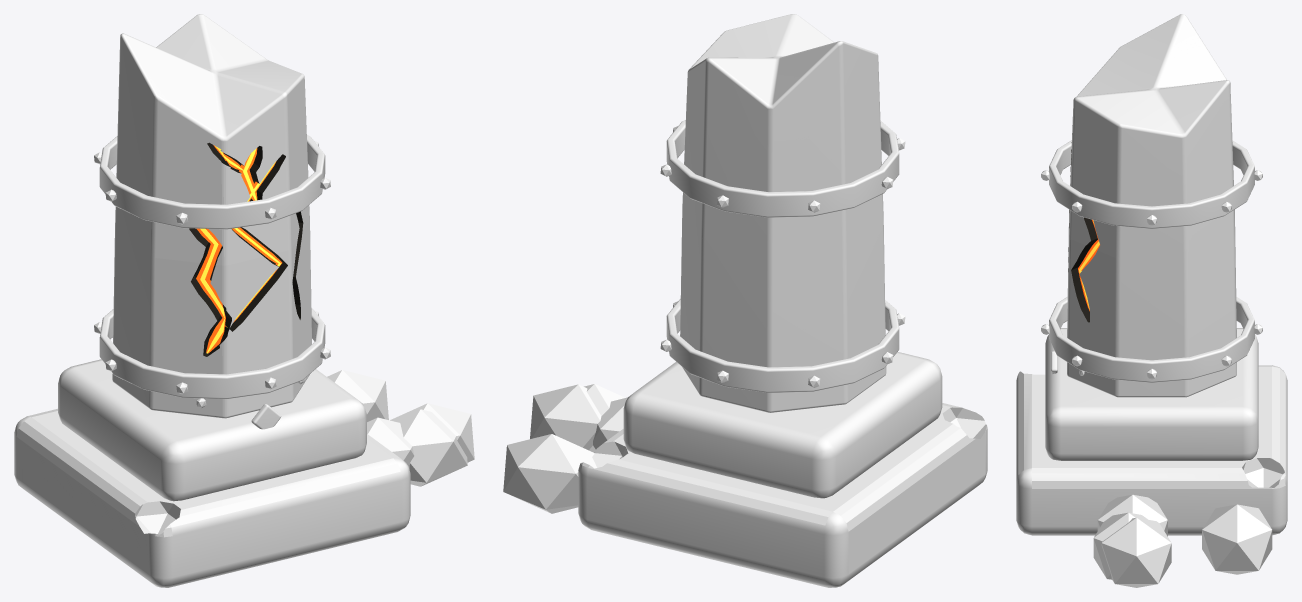
The model's file is AS_10_Pillar_Broken.glb.
3 views of the same model, side by side, from view 1: azimuth 30°, elevation 25°; view 2: azimuth 150°, elevation 25°; view 3: azimuth 270°, elevation 25° (orthographic). The views are drawn at different scales.
Parts seen in each view (by area): view 1: AS_10_Pillar_Broken__surface-carved pillar shaft, AS_10_Pillar_Broken__foot, AS_10_Pillar_Broken__base, AS_10_Pillar_Broken__continuous bronze collar, AS_10_Pillar_Broken__continuous bronze collar.001, AS_10_Pillar_Broken__fallen fragment.001, AS_10_Pillar_Broken__fallen fragment, AS_10_Pillar_Broken__fallen fragment.002, AS_10_Pillar_Broken__fallen fragment.003, AS_10_Pillar_Broken__projected molten fracture.001, AS_10_Pillar_Broken__projected hot fracture.001; view 2: AS_10_Pillar_Broken__surface-carved pillar shaft, AS_10_Pillar_Broken__foot, AS_10_Pillar_Broken__base, AS_10_Pillar_Broken__continuous bronze collar, AS_10_Pillar_Broken__continuous bronze collar.001, AS_10_Pillar_Broken__fallen fragment, AS_10_Pillar_Broken__fallen fragment.002, AS_10_Pillar_Broken__fallen fragment.003, AS_10_Pillar_Broken__fallen fragment.001; view 3: AS_10_Pillar_Broken__surface-carved pillar shaft, AS_10_Pillar_Broken__foot, AS_10_Pillar_Broken__base, AS_10_Pillar_Broken__continuous bronze collar, AS_10_Pillar_Broken__continuous bronze collar.001, AS_10_Pillar_Broken__fallen fragment, AS_10_Pillar_Broken__fallen fragment.002, AS_10_Pillar_Broken__fallen fragment.003, AS_10_Pillar_Broken__fallen fragment.001.
Boxes of the visible parts, x1,y1,x2,y2 form: AS_10_Pillar_Broken__surface-carved pillar shaft: (112, 14, 311, 418); AS_10_Pillar_Broken__foot: (14, 408, 410, 587); AS_10_Pillar_Broken__base: (58, 359, 366, 501); AS_10_Pillar_Broken__continuous bronze collar: (99, 135, 325, 229); AS_10_Pillar_Broken__continuous bronze collar.001: (99, 307, 325, 398); AS_10_Pillar_Broken__fallen fragment.001: (394, 409, 467, 486); AS_10_Pillar_Broken__fallen fragment: (327, 370, 388, 421); AS_10_Pillar_Broken__fallen fragment.002: (390, 403, 474, 462); AS_10_Pillar_Broken__fallen fragment.003: (367, 417, 414, 469); AS_10_Pillar_Broken__projected molten fracture.001: (196, 228, 225, 353); AS_10_Pillar_Broken__projected hot fracture.001: (200, 228, 224, 353); AS_10_Pillar_Broken__surface-carved pillar shaft: (680, 14, 886, 412); AS_10_Pillar_Broken__foot: (578, 403, 987, 587); AS_10_Pillar_Broken__base: (623, 352, 942, 498); AS_10_Pillar_Broken__continuous bronze collar: (666, 120, 899, 217); AS_10_Pillar_Broken__continuous bronze collar.001: (666, 299, 899, 392); AS_10_Pillar_Broken__fallen fragment: (503, 434, 594, 513); AS_10_Pillar_Broken__fallen fragment.002: (530, 384, 601, 450); AS_10_Pillar_Broken__fallen fragment.003: (593, 397, 627, 449); AS_10_Pillar_Broken__fallen fragment.001: (584, 384, 625, 452); AS_10_Pillar_Broken__surface-carved pillar shaft: (1067, 14, 1236, 397); AS_10_Pillar_Broken__foot: (1016, 365, 1287, 535); AS_10_Pillar_Broken__base: (1045, 328, 1258, 460); AS_10_Pillar_Broken__continuous bronze collar: (1049, 140, 1254, 228); AS_10_Pillar_Broken__continuous bronze collar.001: (1049, 297, 1254, 382); AS_10_Pillar_Broken__fallen fragment: (1202, 504, 1272, 574); AS_10_Pillar_Broken__fallen fragment.002: (1101, 517, 1171, 587); AS_10_Pillar_Broken__fallen fragment.003: (1097, 494, 1167, 536); AS_10_Pillar_Broken__fallen fragment.001: (1093, 512, 1147, 579).
Bounding box in the file's own units: 1.64 × 2.05 × 1.12.
